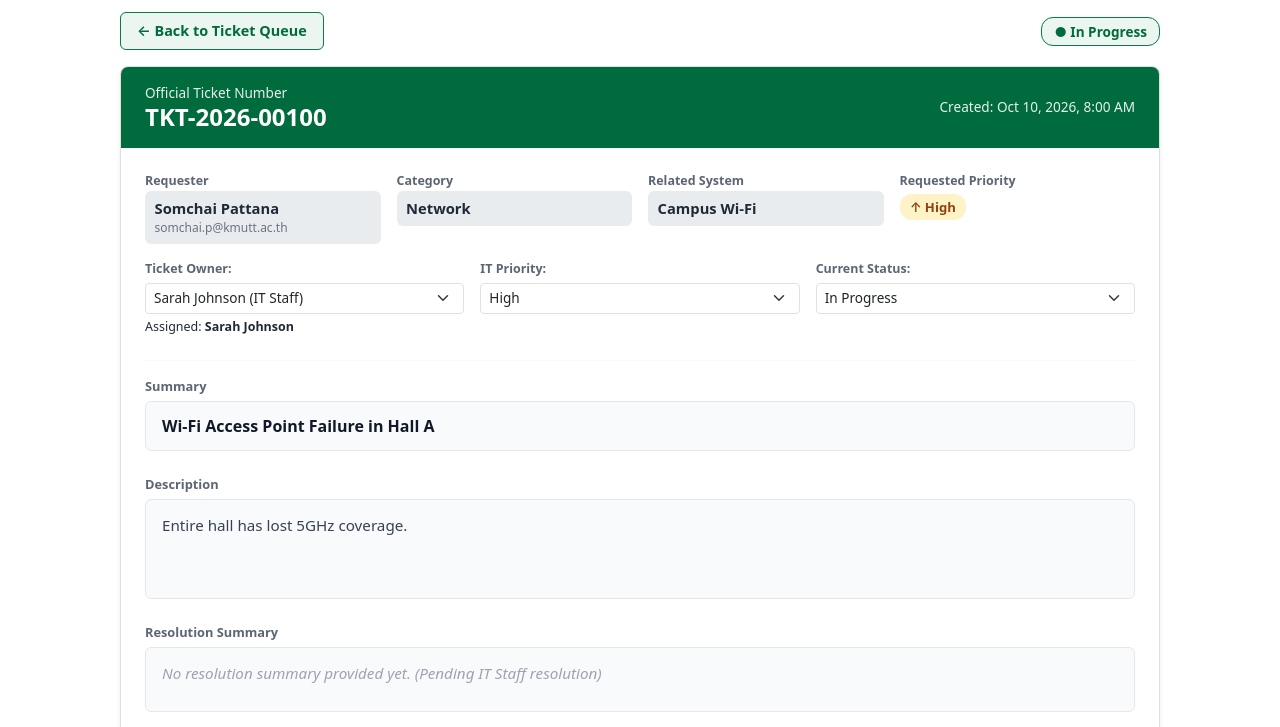
Lab 4 Ticket Workflow & Resolution Gate UI Component Tests (Feature-14) › Optimistic Concurrency Collision UI (409 Conflict) › displays concurrency collision banner on 409 and reloads ticket data while preserving draft summary
Select "Resolved" in the dropdown labelled "Current Status:": x=975, y=298 [816,283,1135,314]
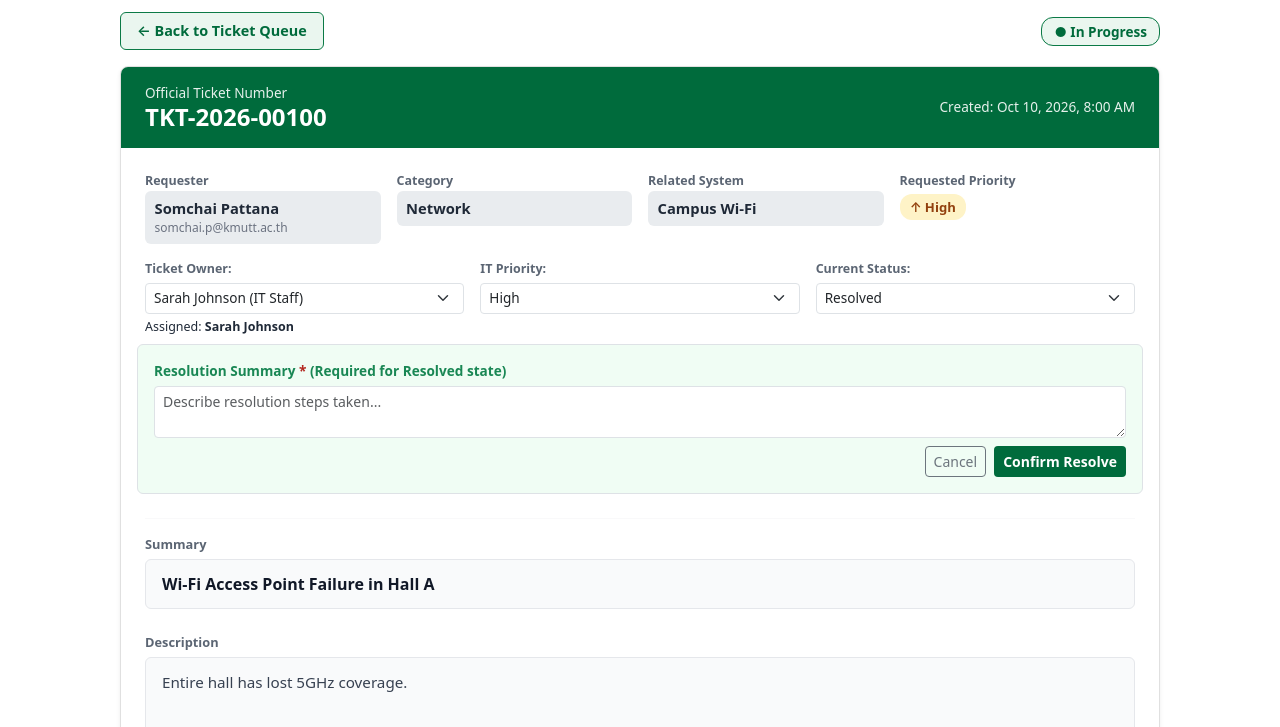
Result: the text box with placeholder "Describe resolution steps taken..." is shown
In the text box with placeholder "Describe resolution steps taken...": x=640, y=412 [154,386,1126,438], type "My unsaved resolution draft note."
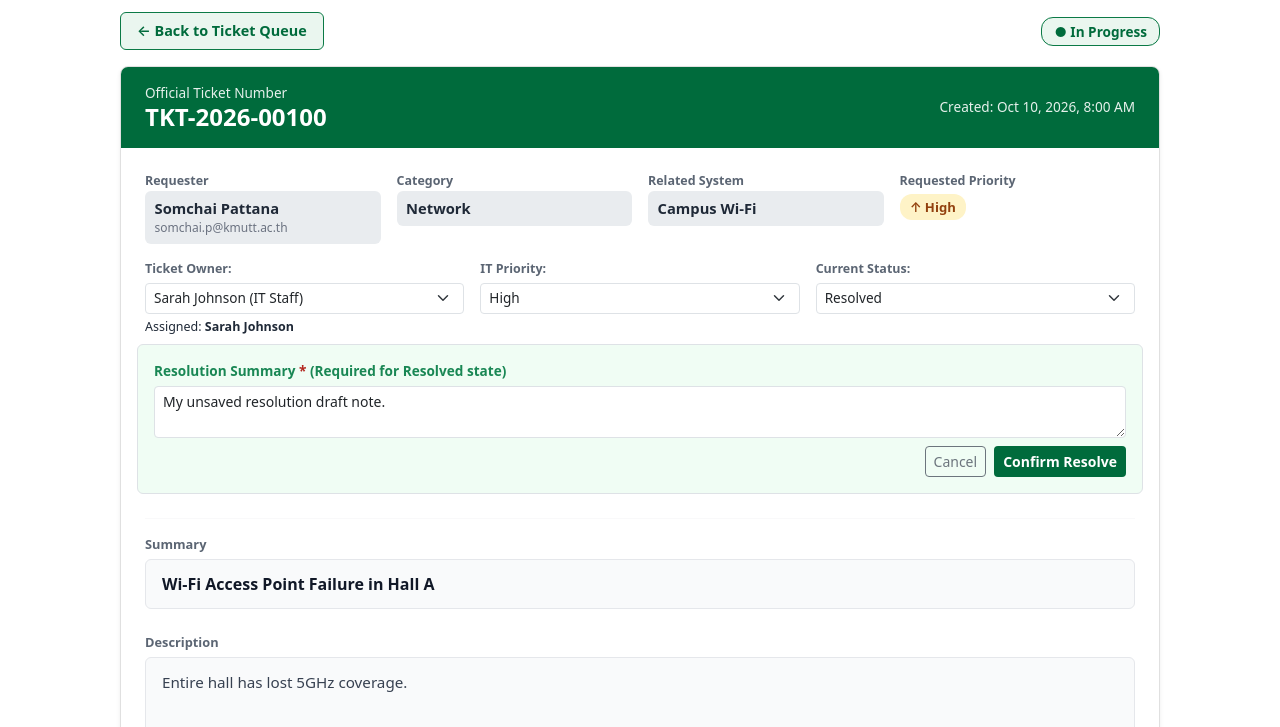
Click the button "Confirm Resolve": x=1060, y=461 [994,446,1126,477]
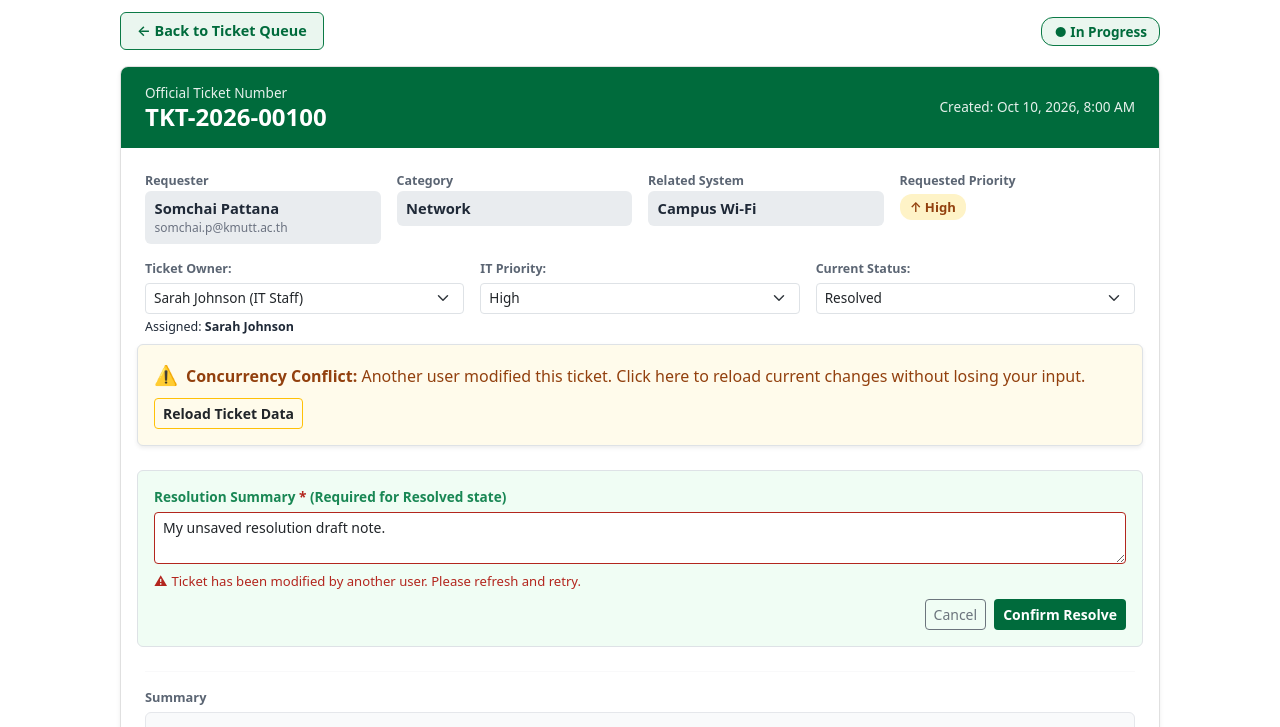
Result: the message with id "concurrency-conflict-banner" is shown at [137,344,1143,446]
Result: the message with id "concurrency-conflict-banner" shows "Another user modified this ticket" at [357,365,1085,387]
Result: the button with id "btn-reload-ticket-concurrency" is shown
Click the button with id "btn-reload-ticket-concurrency": x=228, y=414 [154,398,303,429]
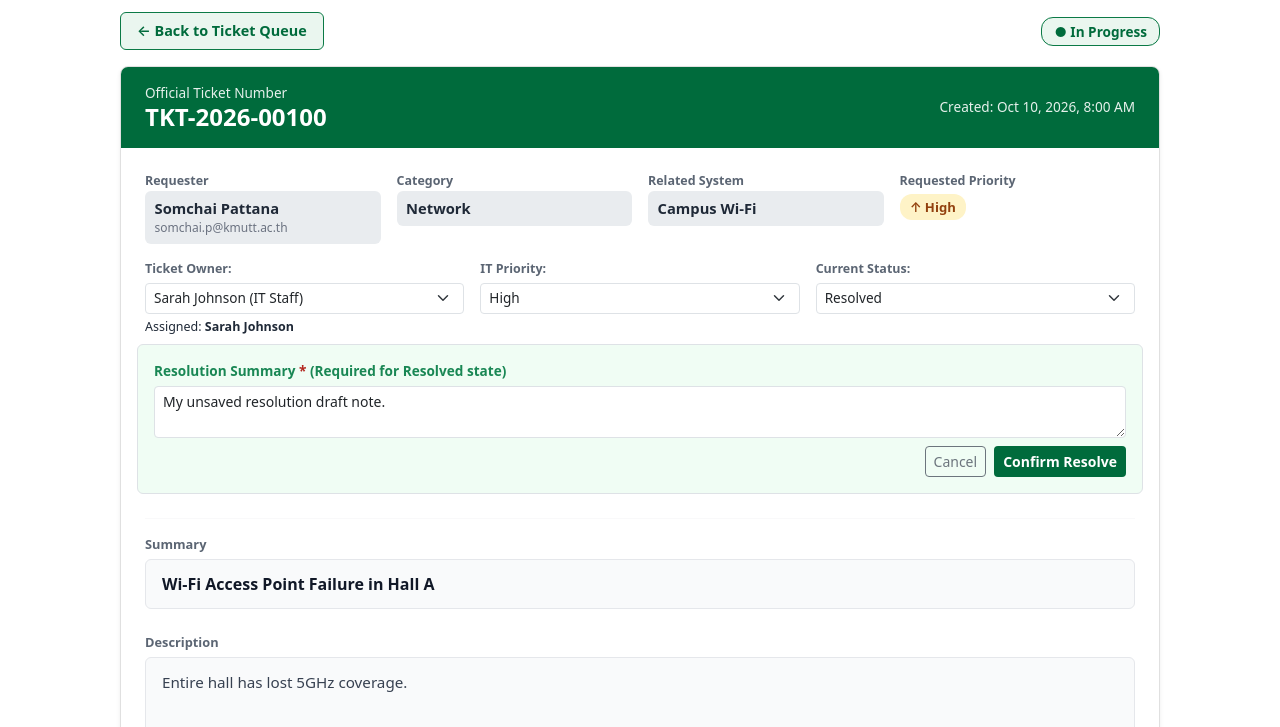
Result: the message with id "concurrency-conflict-banner" is gone
